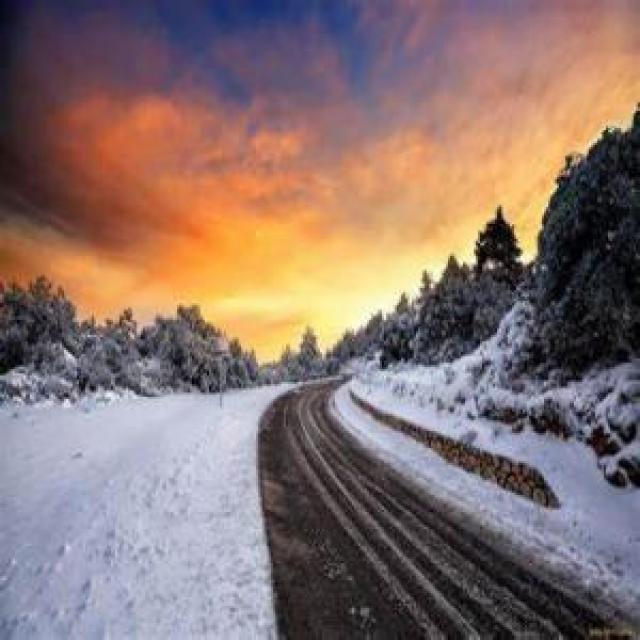ice-road: (258, 378, 640, 640)
